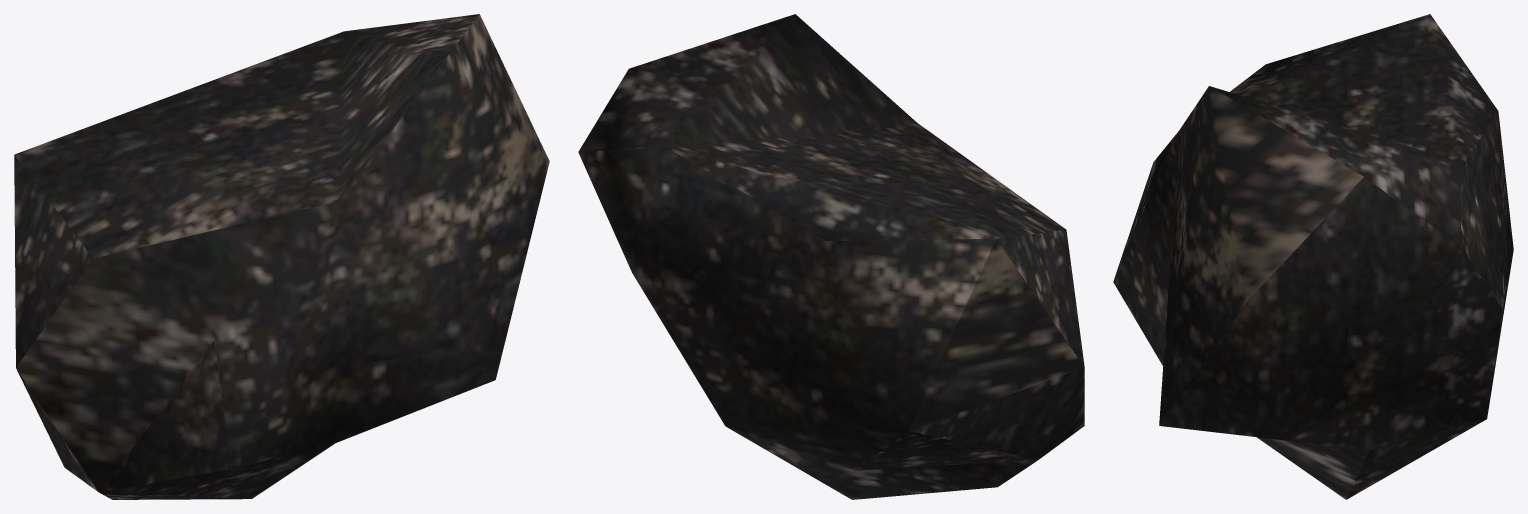
3 views of the same model, side by side, from view 1: azimuth 30°, elevation 25°; view 2: azimuth 150°, elevation 25°; view 3: azimuth 270°, elevation 25° (orthographic). The views are drawn at different scales.
Parts seen in each view (by area): view 1: Nugget; view 2: Nugget; view 3: Nugget.
Part boxes in pixels (x1=…): Nugget: x1=14, y1=14, x2=549, y2=499; Nugget: x1=578, y1=14, x2=1084, y2=499; Nugget: x1=1113, y1=14, x2=1513, y2=499.
Size of the model in its own units: 13.24 by 11.57 by 8.76.
